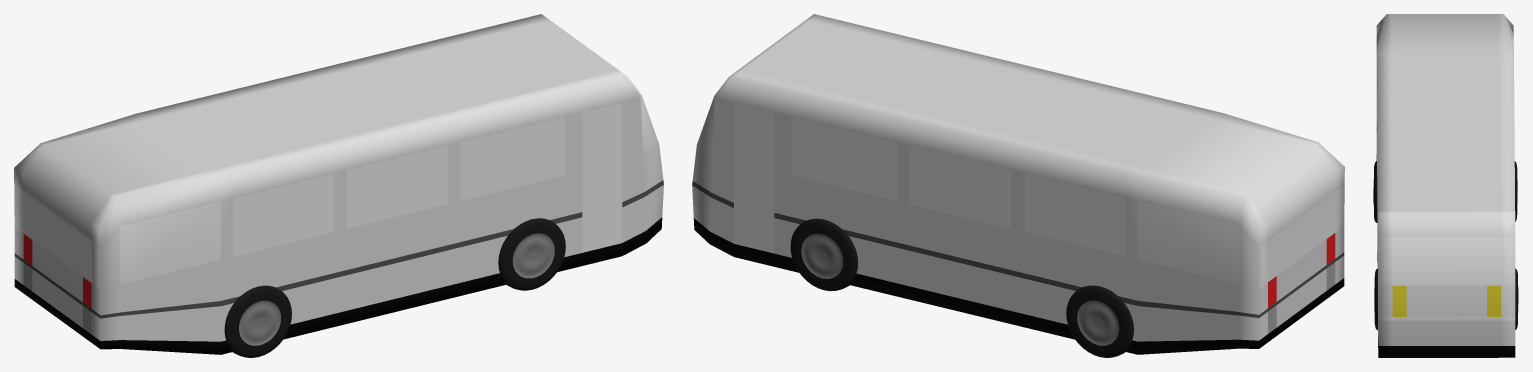
File: bus-calle.fbx
The picture shows the model from 3 angles, left to right: view 1: azimuth 30°, elevation 25°; view 2: azimuth 150°, elevation 25°; view 3: azimuth 270°, elevation 25°; orthographic projection. The views are drawn at different scales.
Parts seen in each view (by area): view 1: Starter bus, FR.001, RR.001; view 2: Starter bus, RL.001, FL.001; view 3: Starter bus, RR.001, FR.001, FL.001, RL.001.
Part boxes in pixels (x1=…): Starter bus: x1=14, y1=14, x2=663, y2=354; FR.001: x1=498, y1=218, x2=565, y2=290; RR.001: x1=224, y1=285, x2=291, y2=357; Starter bus: x1=692, y1=14, x2=1344, y2=354; RL.001: x1=1066, y1=285, x2=1133, y2=357; FL.001: x1=790, y1=218, x2=858, y2=291; Starter bus: x1=1376, y1=14, x2=1515, y2=357; RR.001: x1=1373, y1=161, x2=1377, y2=222; FR.001: x1=1374, y1=268, x2=1377, y2=330; FL.001: x1=1515, y1=268, x2=1518, y2=329; RL.001: x1=1514, y1=161, x2=1517, y2=221.
Size of the model in its own units: 8.48 by 2.73 by 2.35.
